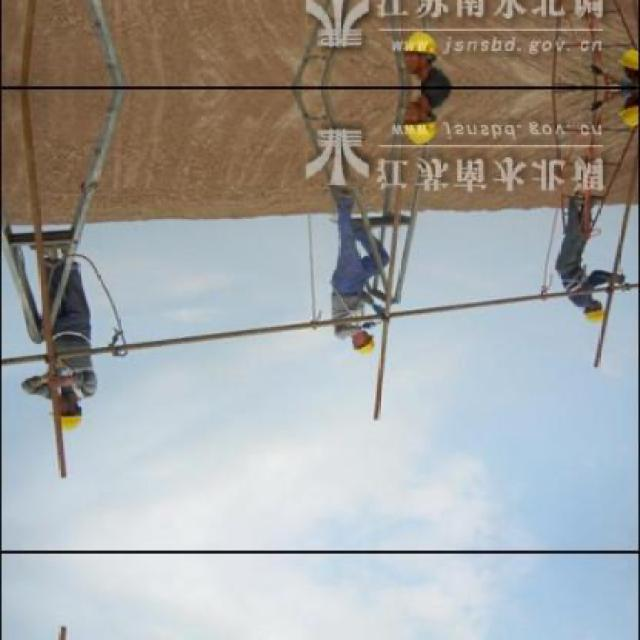con casco: (541, 266, 612, 364), (31, 379, 110, 458), (389, 85, 462, 154), (339, 295, 386, 377), (600, 94, 640, 156)
